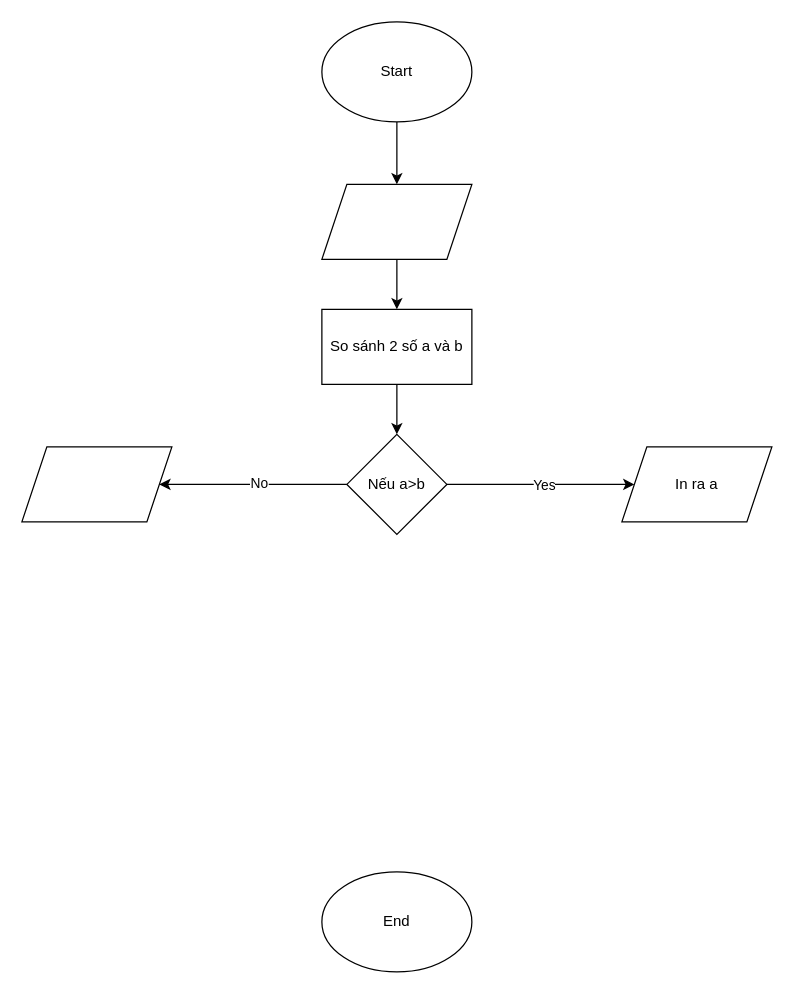
The diagram is 794 pixels wide and 994 high, and some of its shapes have lost their labels. The centre of each missing label's shape, as x and y in pixels:
In ra b: (x=96, y=484)
Nhập 2 số a và b: (x=396, y=221)
